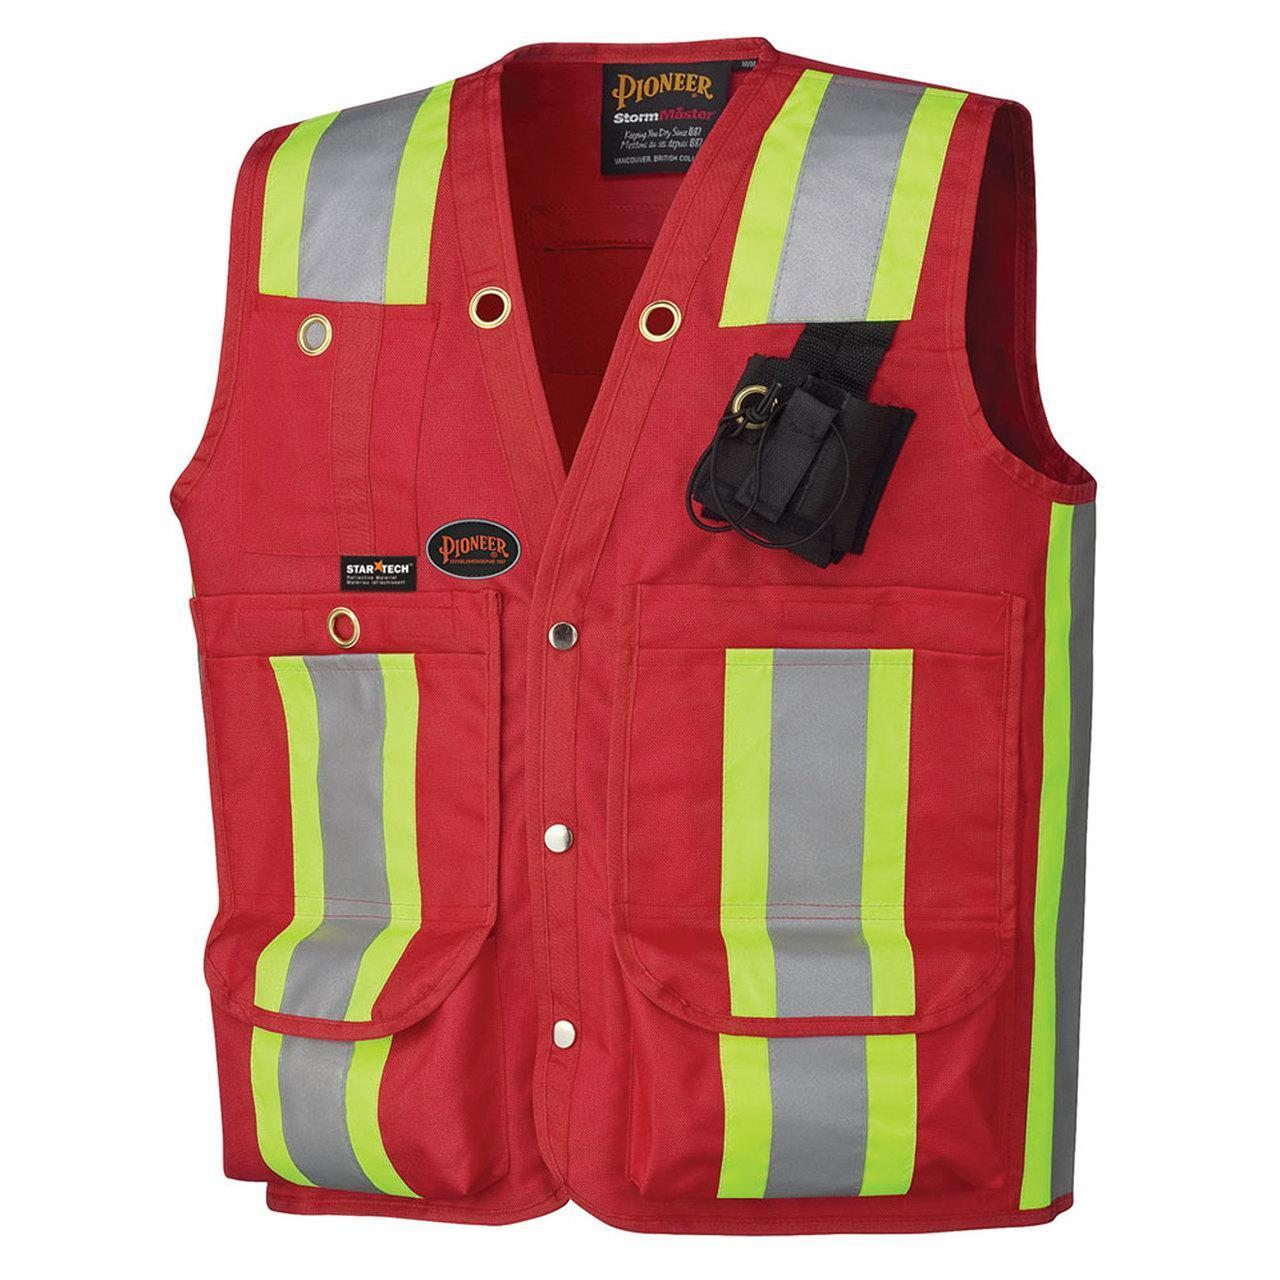vest: (171, 42, 1092, 1230)
